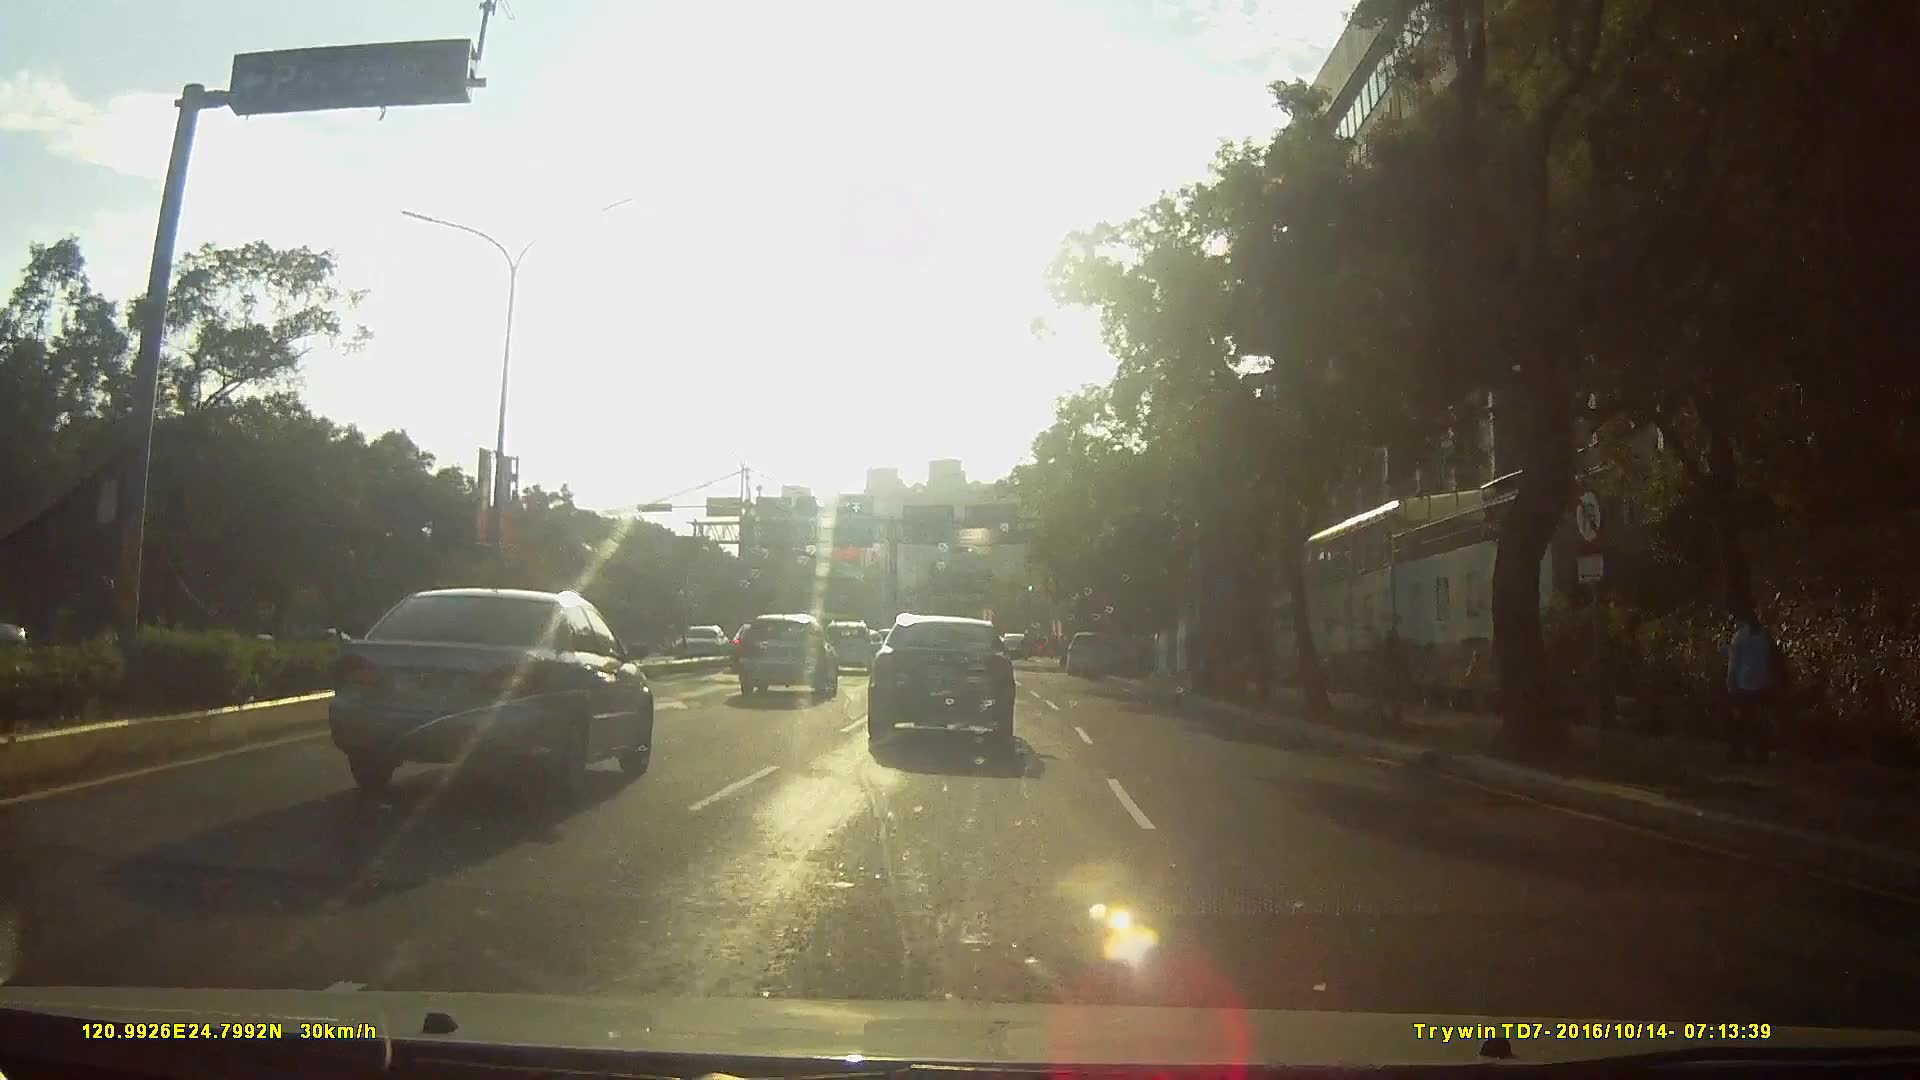pedestrian: (1728, 591, 1794, 771)
vehicle: (303, 582, 664, 808), (865, 612, 1036, 758), (730, 610, 833, 701), (813, 616, 872, 674), (671, 619, 736, 664), (1063, 627, 1116, 676)
